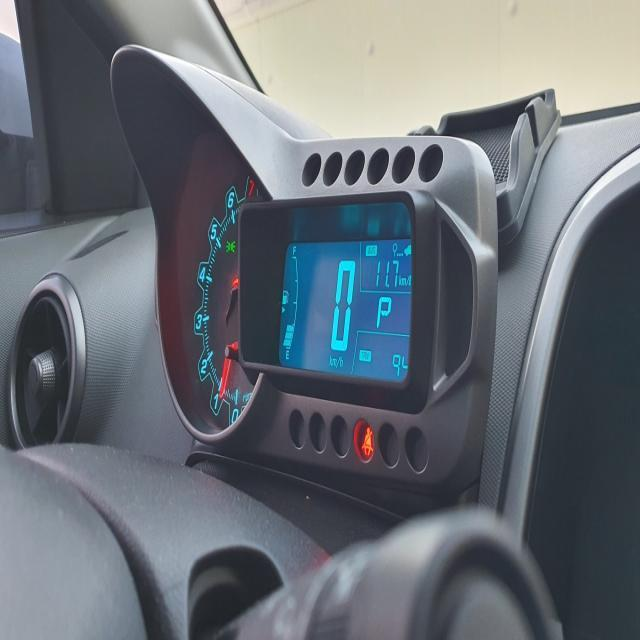SideLamp: (224, 238, 234, 254)
